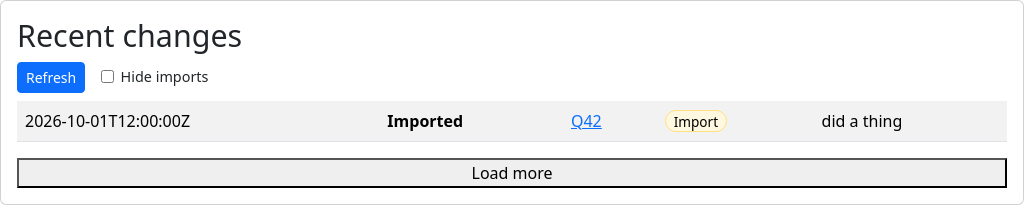
RecentChangesView › shows the import badge for the import user and an Imported type
This screenshot has width=1024, height=222.
Expected: the text with test id "recent-type" reads "Imported", x1=387 y1=110 x2=463 y2=132
Expected: the text with test id "recent-import-user" reads "Import", x1=674 y1=112 x2=718 y2=130
Click the checkbox with test id "recent-hide-imports": x=108, y=77 x1=101 y1=70 x2=114 y2=84
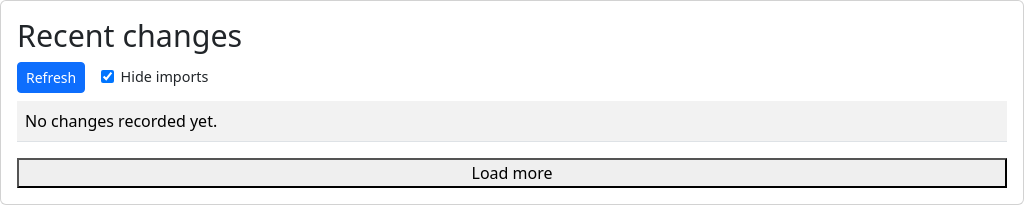
Result: the row with test id "recent-empty" is shown at x1=17 y1=100 x2=1007 y2=141
